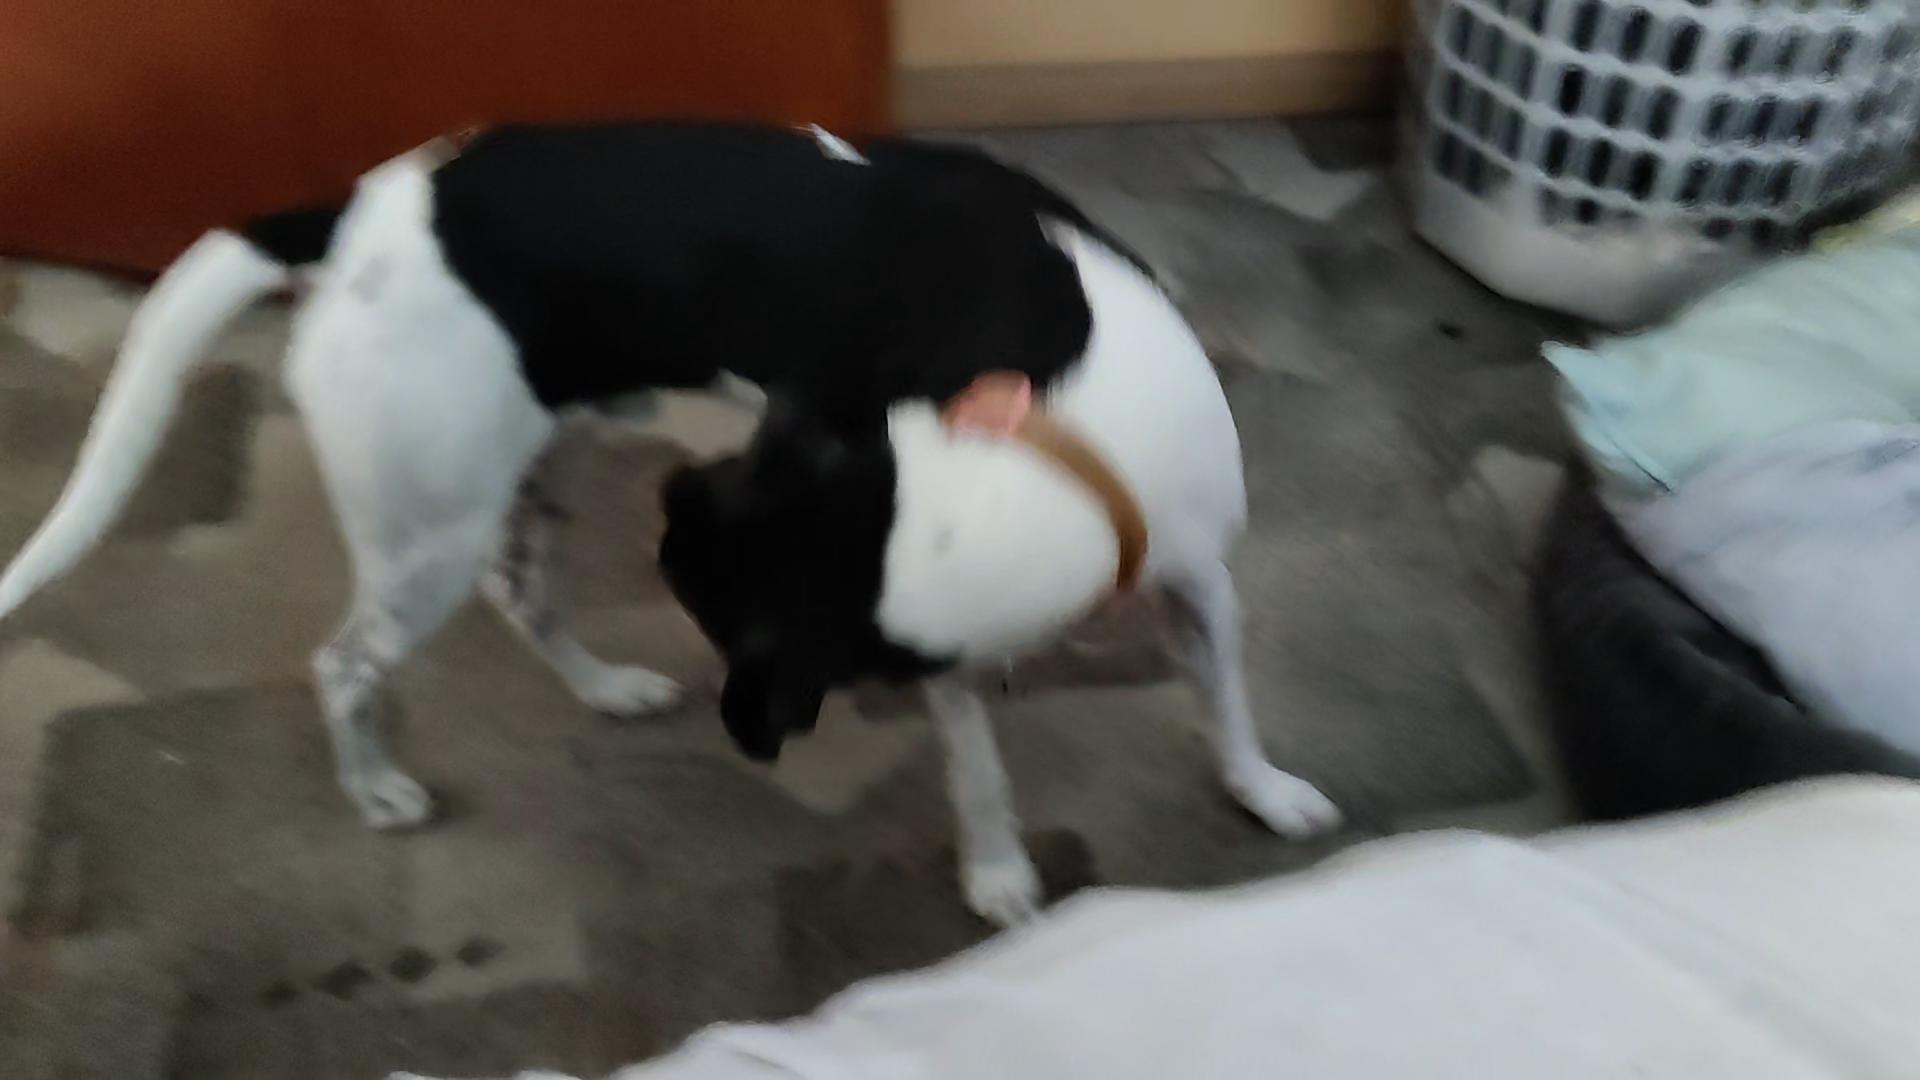Dog: (0, 98, 1375, 955)
